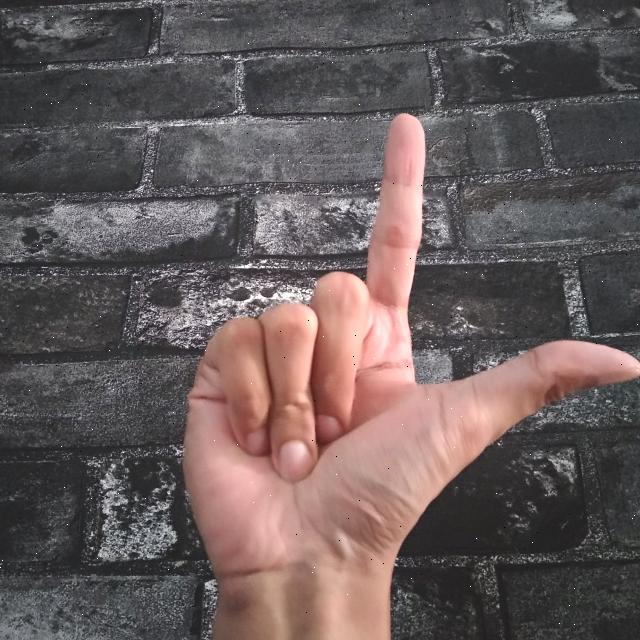L: (173, 103, 640, 640)
